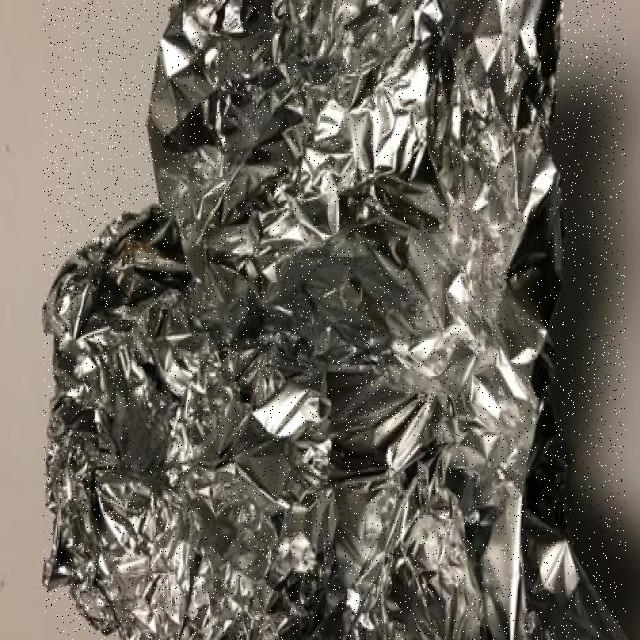metal: (44, 0, 626, 640)
